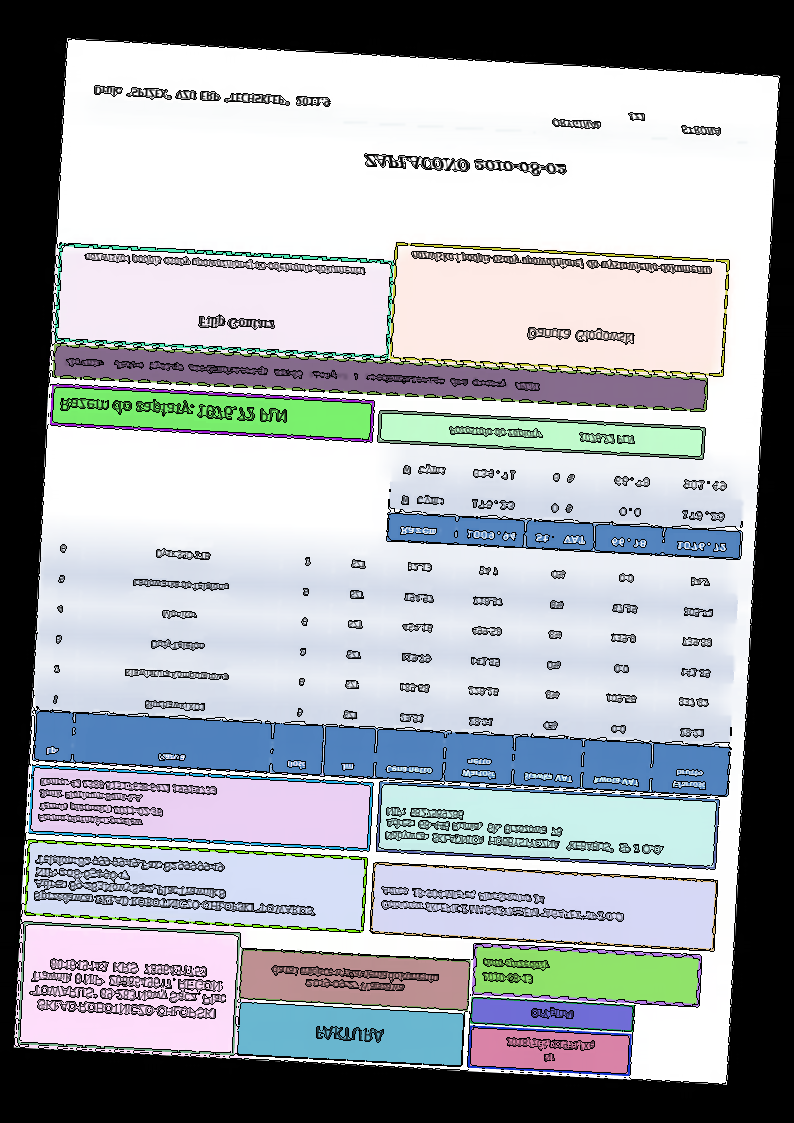Table: (31, 526, 739, 798), (385, 450, 747, 560)
TextBox: (30, 851, 320, 919), (60, 355, 541, 394), (382, 805, 669, 857), (26, 955, 230, 1022), (35, 774, 219, 834), (379, 884, 628, 924), (409, 249, 713, 279), (82, 250, 367, 278), (59, 394, 289, 426), (92, 83, 333, 110), (359, 150, 569, 180), (268, 963, 443, 997), (550, 107, 724, 137), (448, 423, 637, 447), (502, 1033, 597, 1065), (526, 323, 635, 346), (479, 956, 552, 987), (312, 1022, 385, 1045), (196, 314, 276, 334), (528, 1005, 576, 1024)
